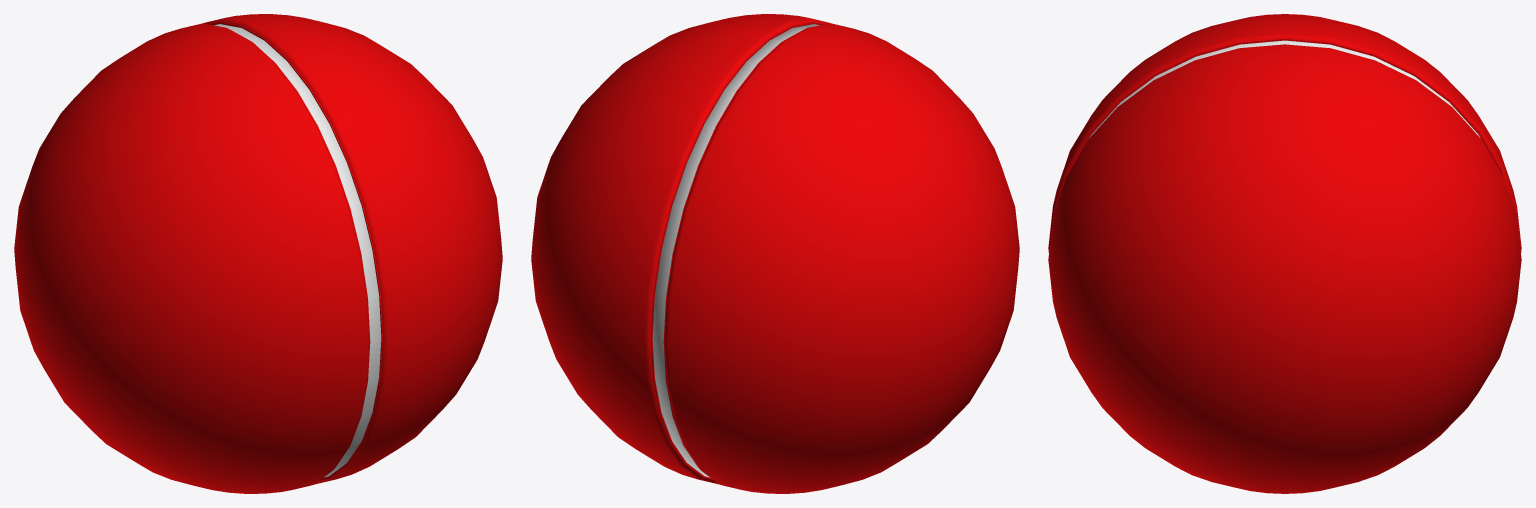
The model's file is ballsRo.fbx.
3 renders of one model, left to right at view 1: azimuth 30°, elevation 25°; view 2: azimuth 150°, elevation 25°; view 3: azimuth 270°, elevation 25°, orthographic.
Parts seen in each view (by area): view 1: Sphere.003, Sphere.004, Circle.001; view 2: Sphere.003, Sphere.004, Circle.001; view 3: Sphere.004, Sphere.003, Circle.001.
Part boxes in pixels (bbox=[...]): Sphere.003: bbox=[14, 23, 370, 493]; Sphere.004: bbox=[202, 14, 502, 484]; Circle.001: bbox=[214, 24, 381, 477]; Sphere.003: bbox=[663, 23, 1019, 493]; Sphere.004: bbox=[531, 14, 831, 484]; Circle.001: bbox=[652, 24, 819, 477]; Sphere.004: bbox=[1048, 44, 1521, 493]; Sphere.003: bbox=[1048, 14, 1521, 252]; Circle.001: bbox=[1089, 40, 1480, 137].
Bounding box in the file's own units: 214 × 207 × 207.
